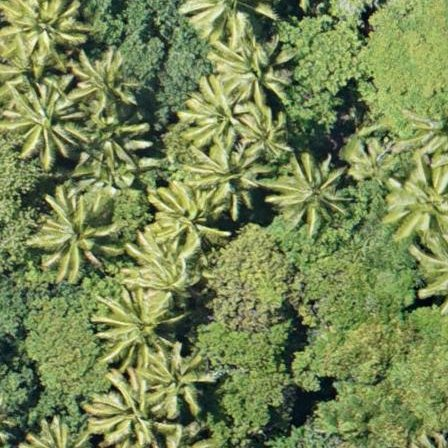palm_tree: (267, 146, 351, 235), (33, 192, 113, 273), (381, 157, 448, 247), (97, 291, 174, 364), (87, 374, 165, 446), (149, 186, 226, 257), (212, 37, 294, 103), (179, 77, 251, 151), (5, 81, 78, 153), (1, 1, 83, 60), (143, 347, 211, 413), (72, 106, 143, 165), (70, 53, 135, 117), (238, 108, 295, 163)
